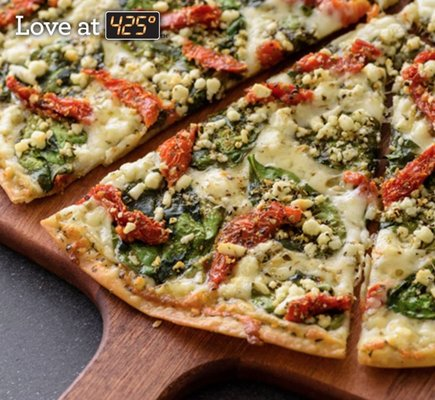curry: (387, 254, 435, 319)
